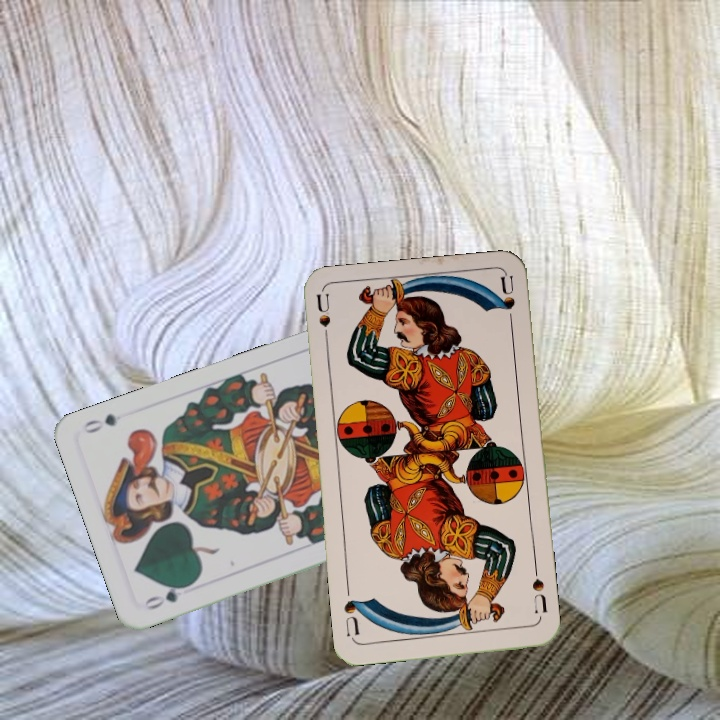GO: (139, 579, 195, 613)
SU: (312, 291, 333, 351), (528, 563, 550, 616)
